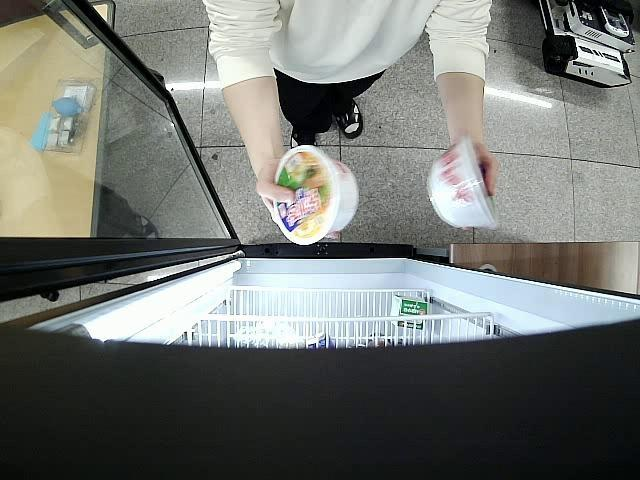09_yukGaeJang: (272, 144, 358, 246), (425, 137, 497, 231)
